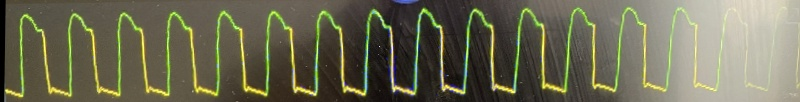normal_pressure: (0, 0, 776, 102)
